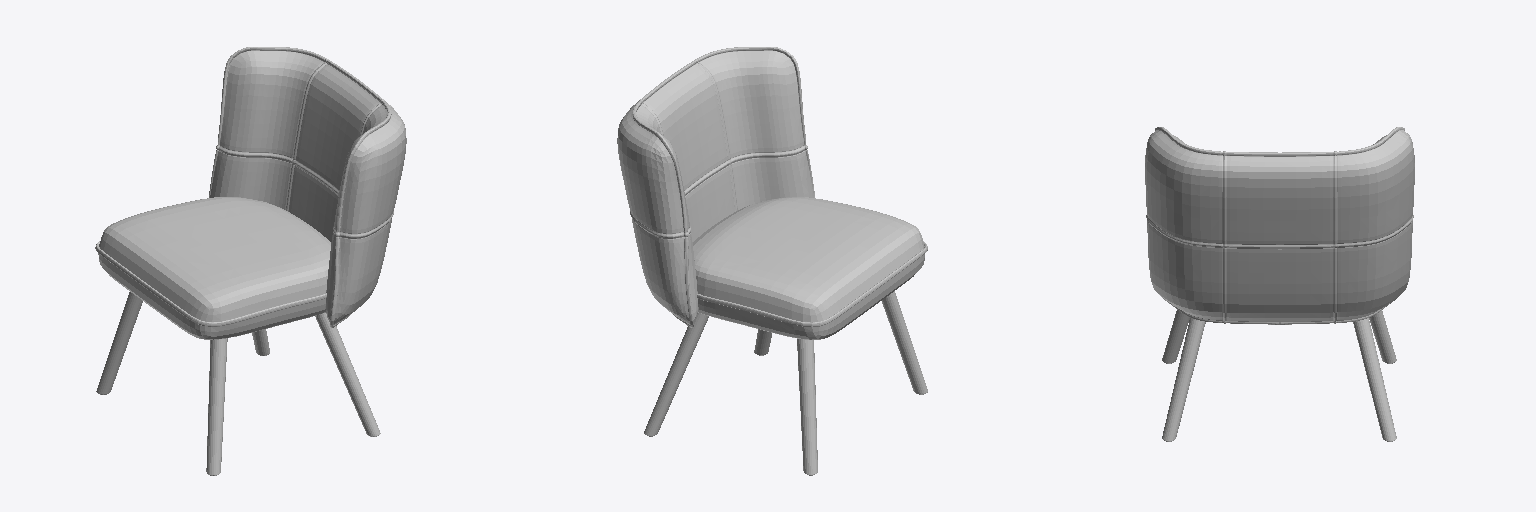
The model's file is york-chair.obj.
3 views of the same model, side by side, from view 1: azimuth 30°, elevation 25°; view 2: azimuth 150°, elevation 25°; view 3: azimuth 270°, elevation 25° (orthographic).
Parts seen in each view (by area): view 1: Box032, Cylinder010; view 2: Box032, Cylinder010; view 3: Box032, Cylinder010.
Boxes of the visible parts, <box> form: Box032: <box>95,47,406,339</box>; Cylinder010: <box>96,292,380,475</box>; Box032: <box>617,47,927,339</box>; Cylinder010: <box>644,291,927,475</box>; Box032: <box>1145,127,1414,324</box>; Cylinder010: <box>1162,310,1396,441</box>.
Size of the model in its own units: 670 by 868 by 691.